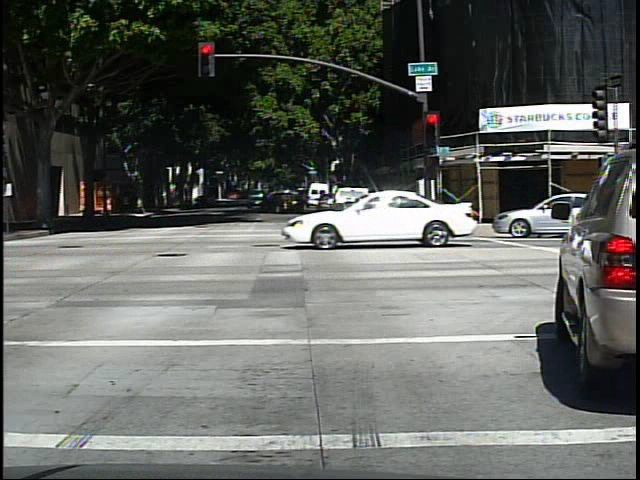person: (81, 186, 97, 220)
